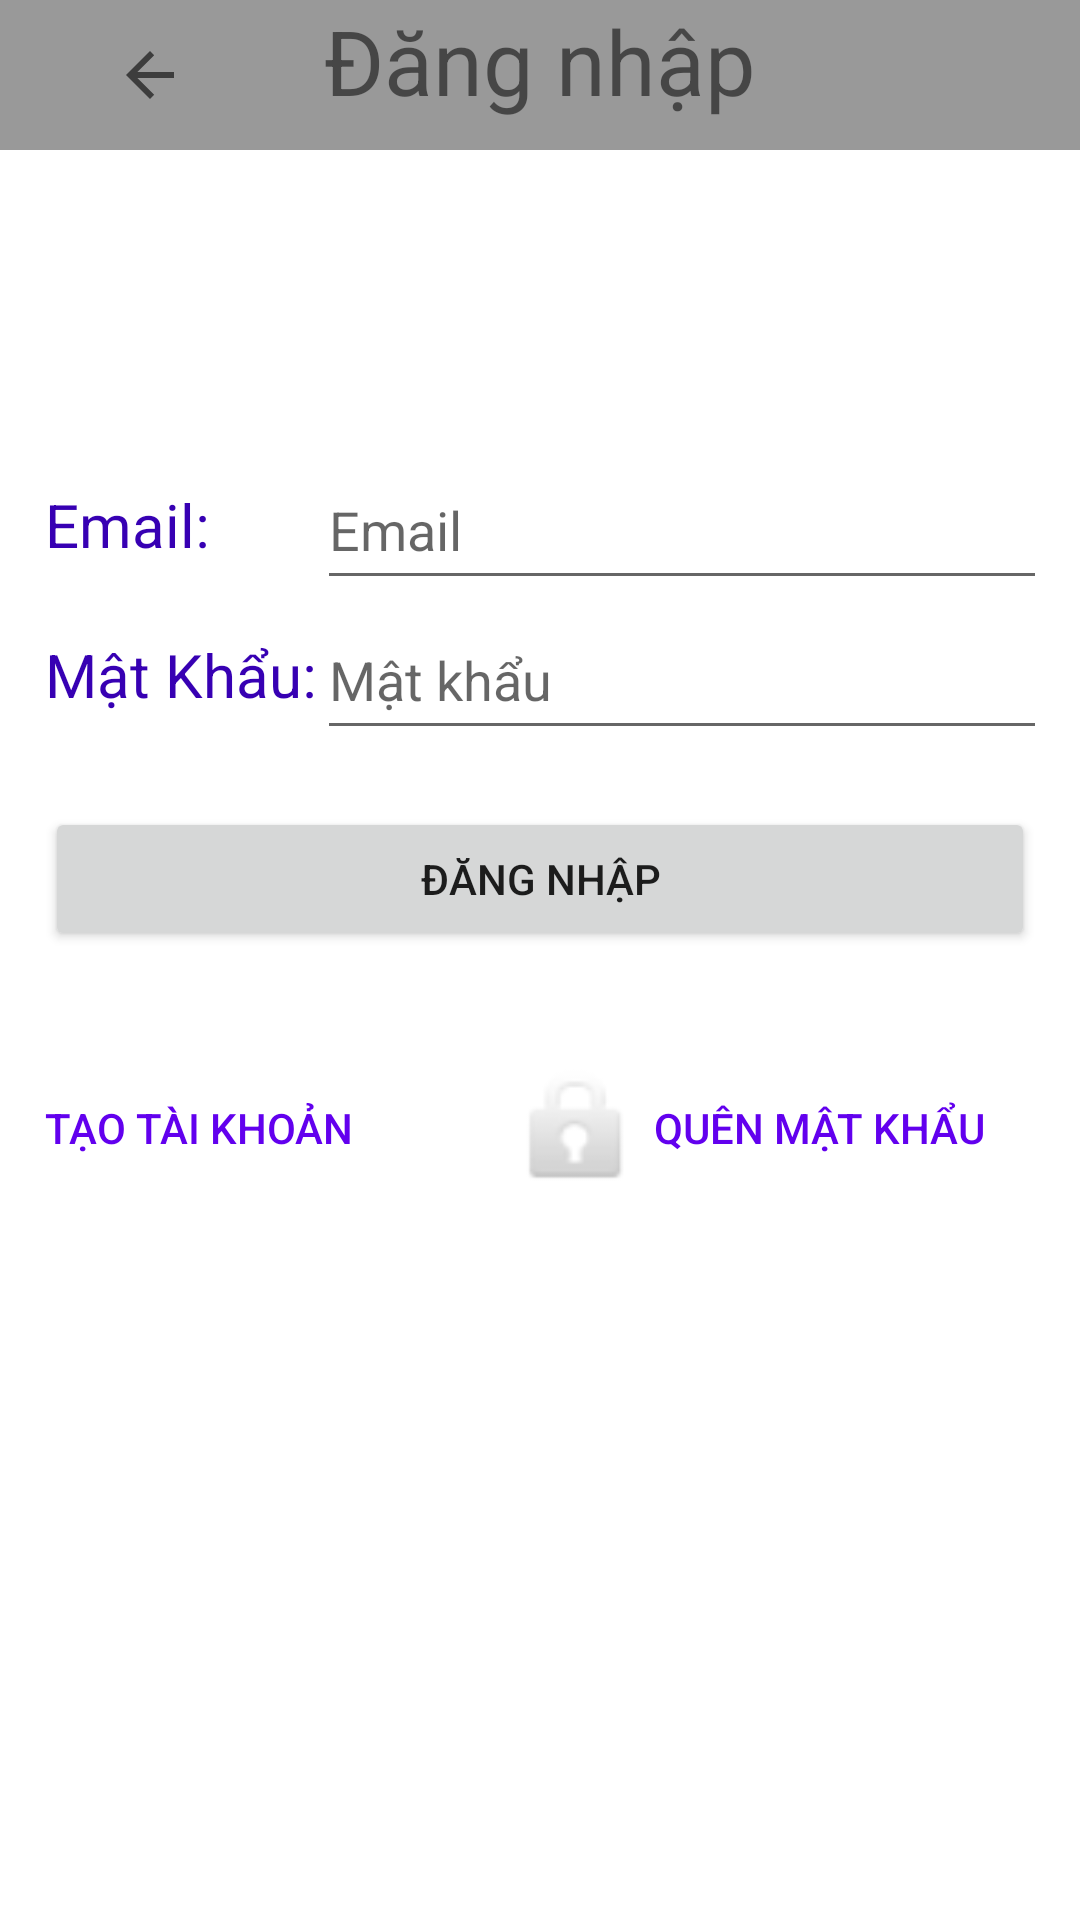

Icons on this 1080px×1920px Android screen, each with its box as region(x1, y1, x2, y2):
lock idle: region(530, 1116, 621, 1178)
Quay về màn hình Thêm: region(126, 51, 174, 99)
